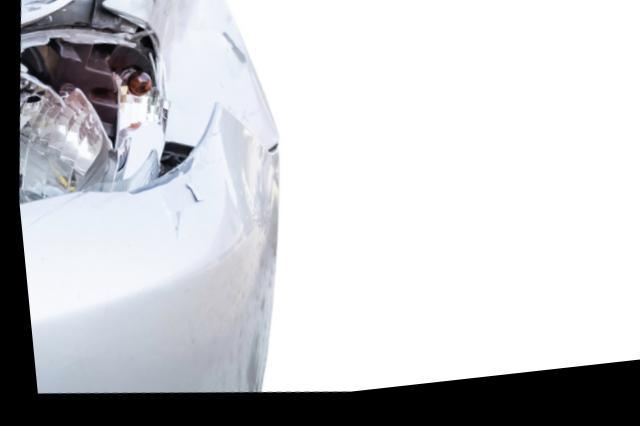dent: (158, 0, 273, 155), (20, 0, 75, 23)
lamp broken: (15, 23, 167, 204)
